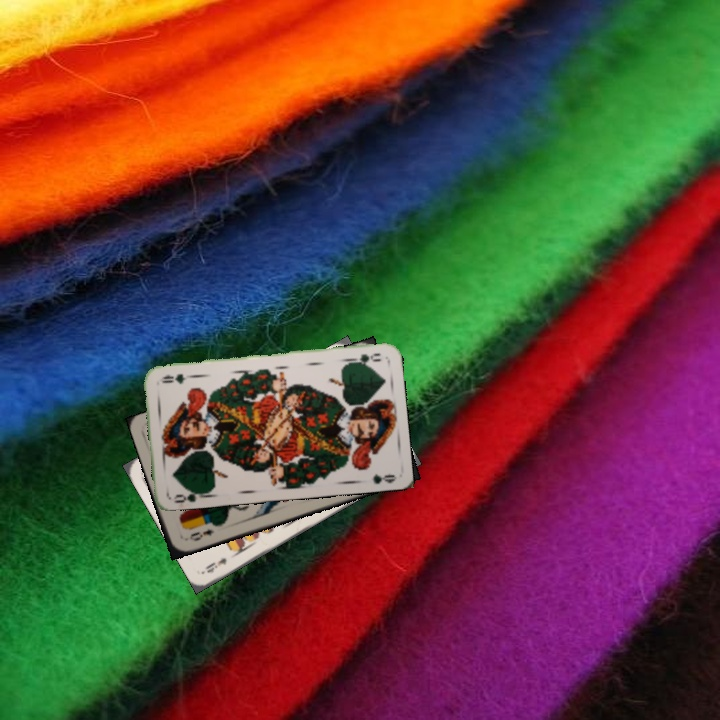E9: (201, 553, 229, 575)
EO: (181, 525, 216, 544)
GO: (170, 485, 209, 506), (345, 349, 383, 367)
